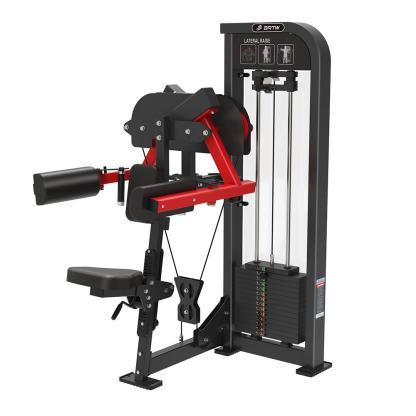lateral raises machine: (34, 85, 334, 392)
